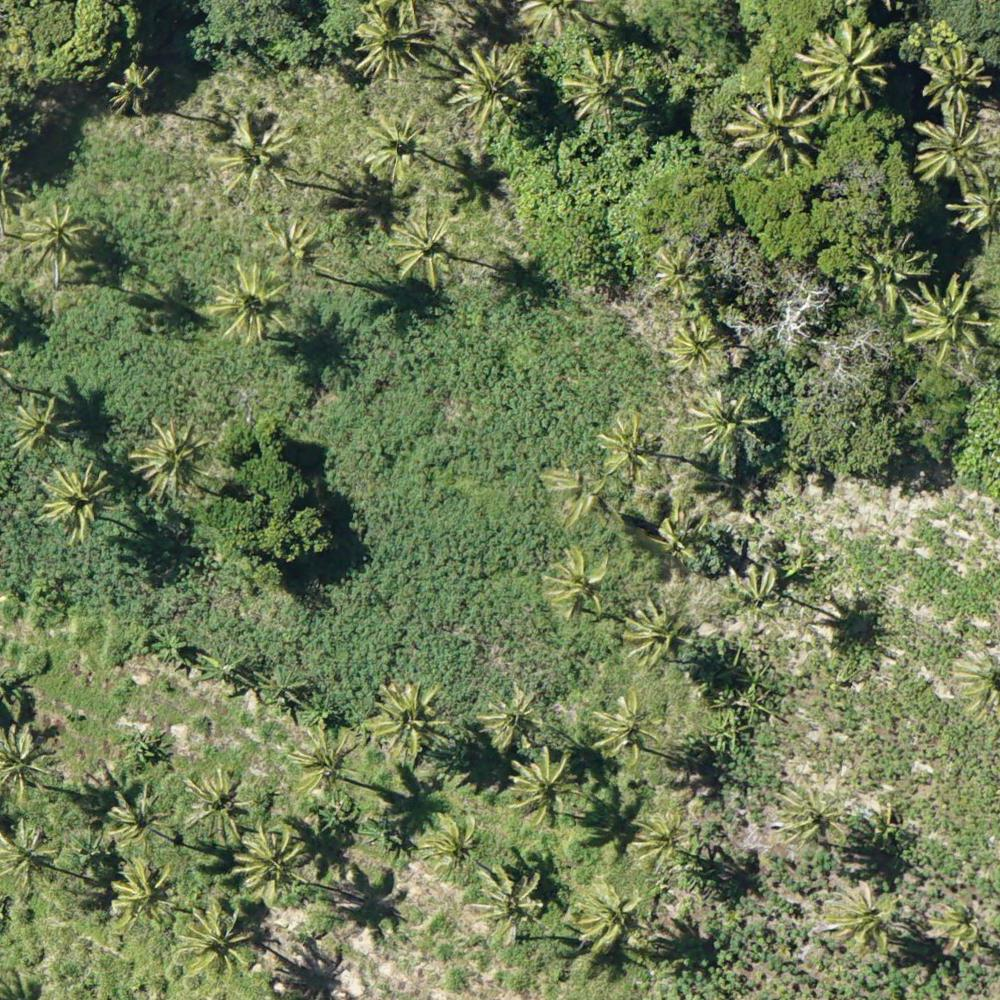Palm: (209, 112, 304, 195), (912, 275, 997, 363), (805, 21, 886, 113), (731, 81, 816, 168), (453, 40, 535, 123), (130, 418, 209, 499), (208, 257, 285, 340), (567, 47, 647, 126), (367, 683, 448, 761), (474, 865, 551, 942), (830, 878, 904, 957), (512, 747, 583, 829), (351, 7, 428, 82), (689, 388, 767, 462), (389, 202, 459, 280), (182, 901, 249, 982), (782, 772, 854, 847), (42, 461, 112, 538), (920, 42, 991, 117), (363, 110, 438, 181), (597, 407, 668, 479), (915, 115, 989, 184), (590, 692, 659, 766), (289, 722, 356, 795), (185, 769, 250, 843), (622, 598, 692, 665), (573, 883, 639, 952), (239, 825, 304, 895), (625, 807, 689, 877), (549, 548, 614, 616), (479, 684, 547, 749), (1, 724, 62, 796), (109, 858, 172, 927), (418, 810, 481, 877), (105, 786, 168, 852), (725, 565, 787, 631), (1, 824, 62, 891), (23, 204, 87, 266), (13, 394, 72, 455), (256, 216, 318, 272), (668, 311, 724, 371), (930, 896, 986, 955), (108, 63, 162, 118), (654, 242, 707, 292)
